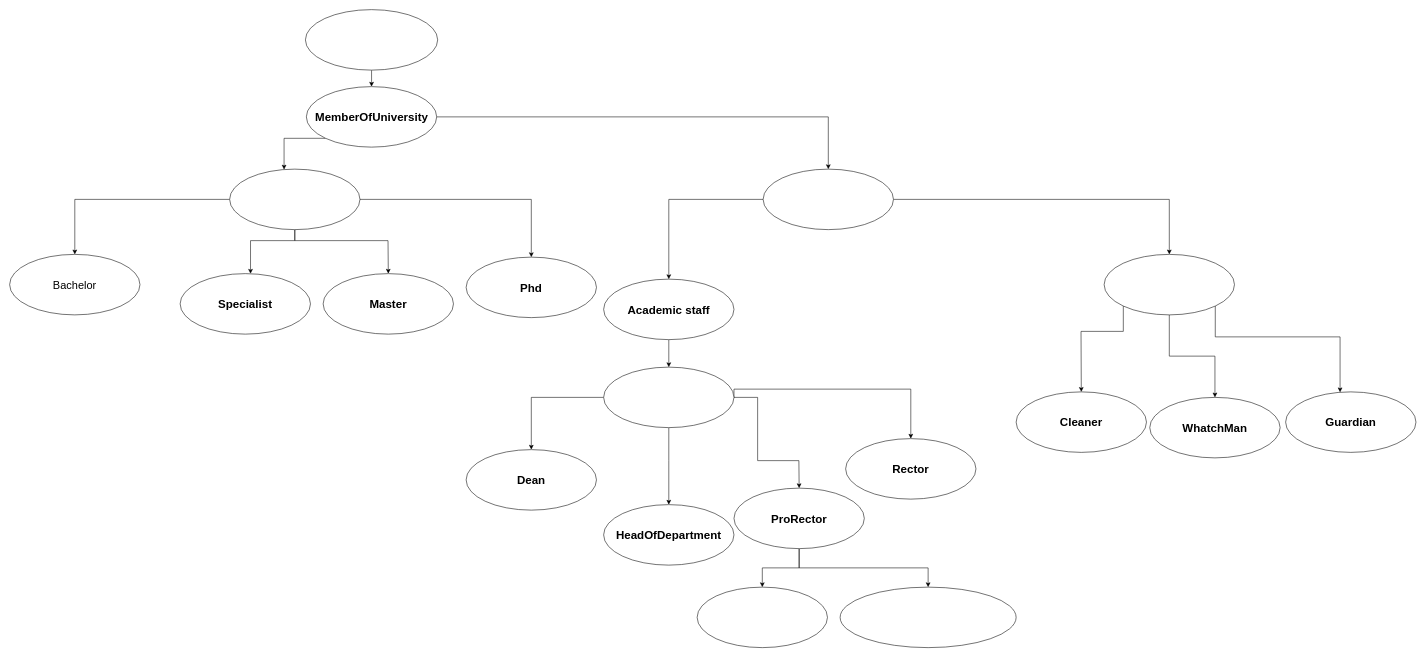
This 1426x657 diagram has some shape labels left out. The shapes that lost their labels are listed below. From the top down, each one's centre as x and y in pixels, then its label:
At pixel 371 39: "Human".
At pixel 294 199: "Student".
At pixel 828 199: "Staff".
At pixel 1169 284: "Other staff".
At pixel 668 397: "AcademicAdministration".
At pixel 762 617: "ScientificProRector".
At pixel 928 617: "InternationalIssuesProRector".
